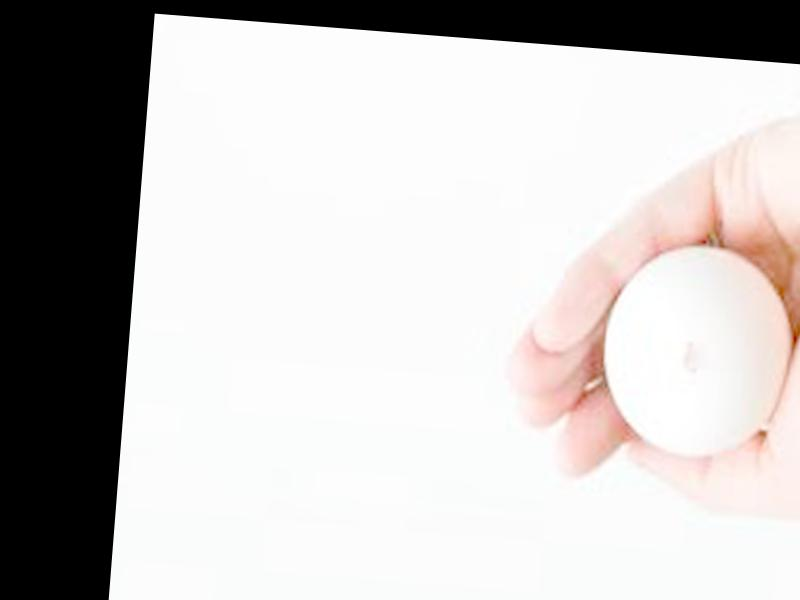Eggs: (597, 243, 795, 456)
